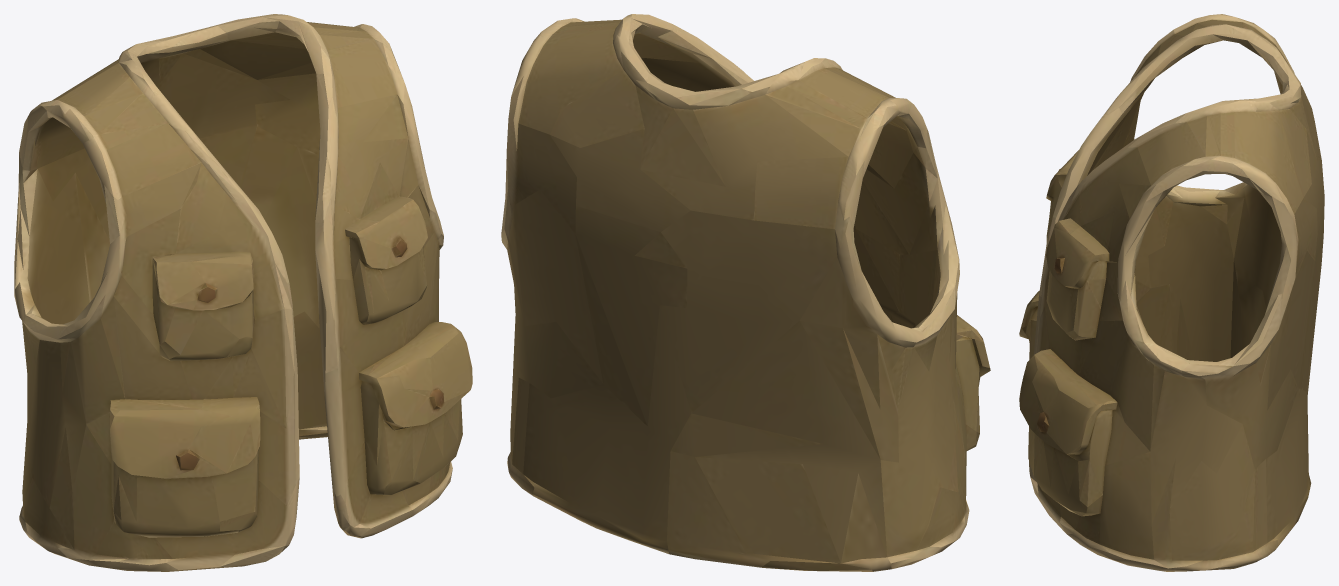
Rendered from vest_explorer.fbx.
3 renders of one model, left to right at view 1: azimuth 30°, elevation 25°; view 2: azimuth 150°, elevation 25°; view 3: azimuth 270°, elevation 25°, orthographic. The views are drawn at different scales.
Parts seen in each view (by area): view 1: Mesh_0; view 2: Mesh_0; view 3: Mesh_0.
Part boxes in pixels (x1,y1,x2,y2): Mesh_0: (14, 14, 472, 571); Mesh_0: (501, 14, 990, 571); Mesh_0: (1019, 14, 1324, 571).
Bounding box in the file's own units: 1.76 × 1.89 × 1.23.
1 material, 1 textured.
